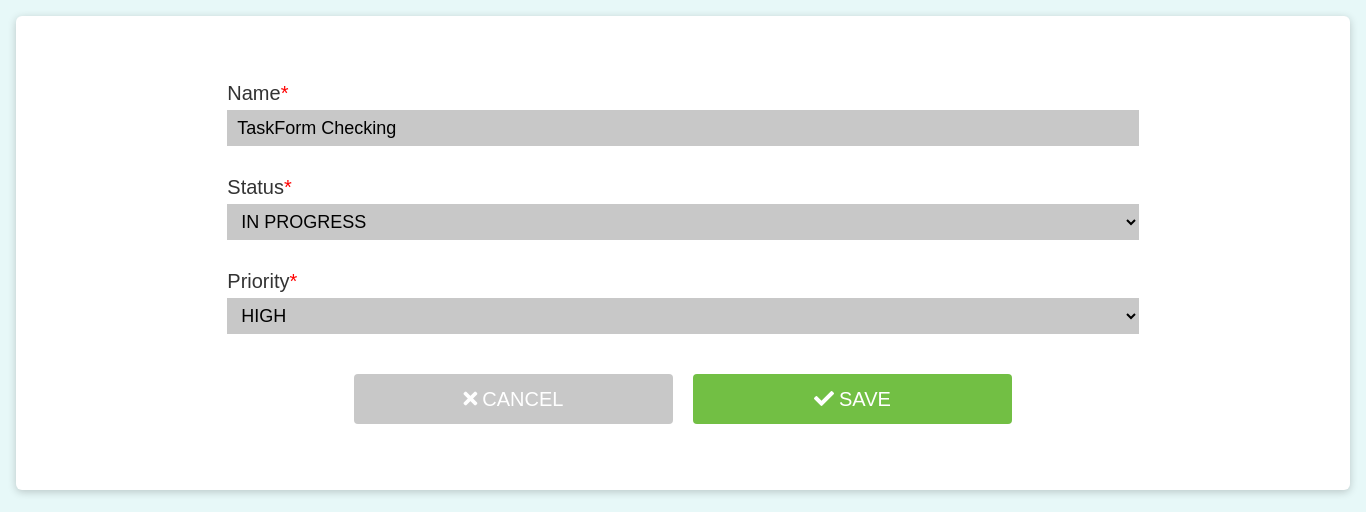
TaskForm Testing › Have a check at input fields clearance after cancel button clicked
Click the button "CANCEL" at (514, 399), box [354,374,673,424]
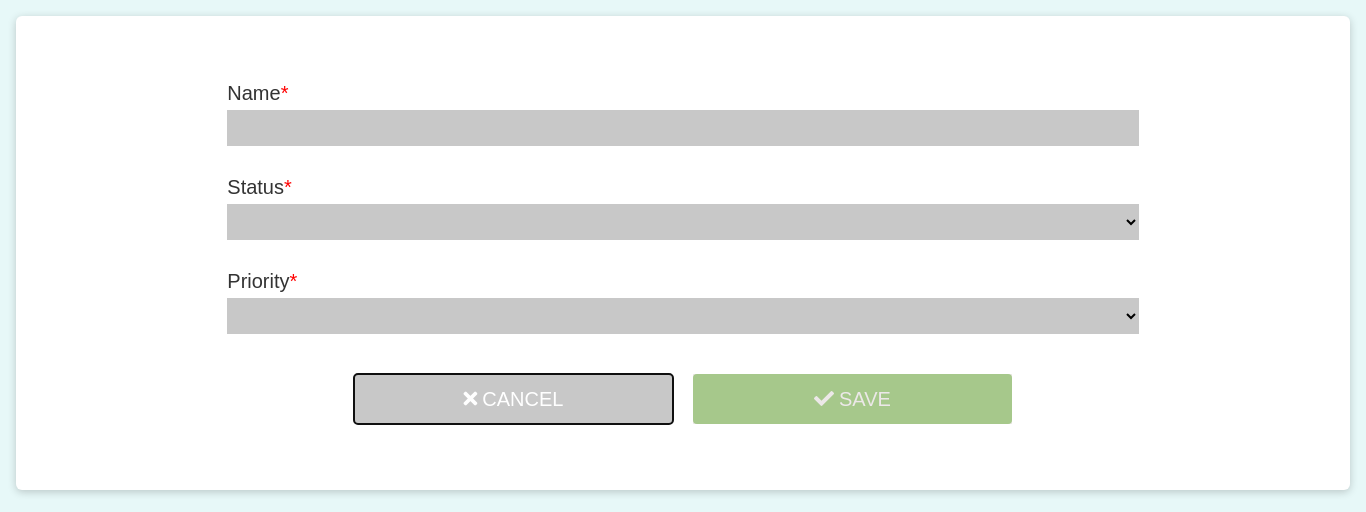
Result: the field is empty at [227,110,1139,146]
